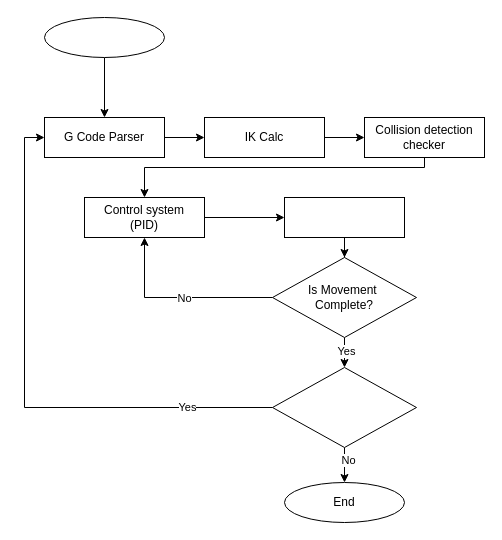
Some shapes in this 502 by 540 pixel diagram are drawn without their labels. Each missing label, with the centre of its shape:
"Are there more commands?" belongs at pixel 344 407.
"Read Sensors" belongs at pixel 344 217.
"Start" belongs at pixel 104 37.
